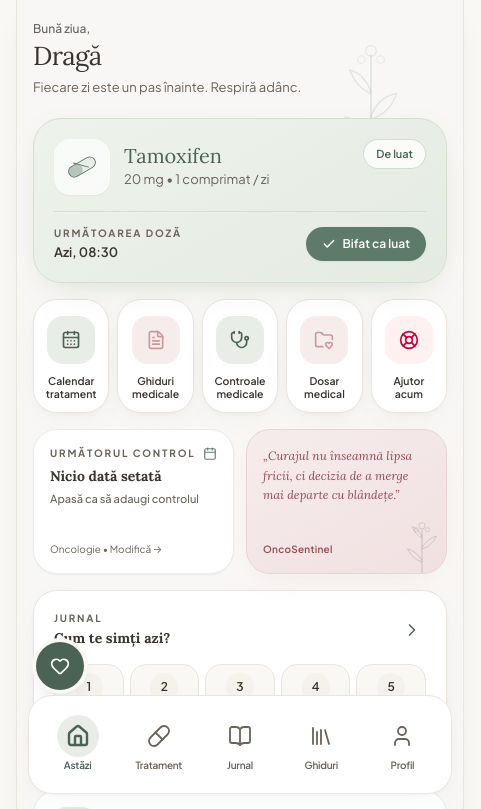
Test: Testarea cu pacientele › cardul pastilei arată numele întreg și „Luat azi” cu o singură bifă
The width and height of the screenshot is (481, 809).
Click the button "Bifat ca luat" at {"x": 366, "y": 244}, box [306,227,426,261]
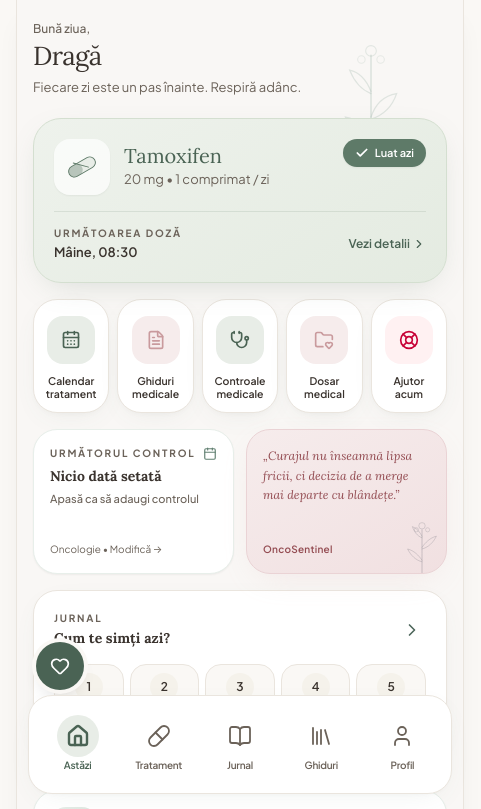
Expected: the heading "Tamoxifen" is shown, [124,143,222,168]
Result: the element showing "Luat azi" is shown at [343,139,426,167]
